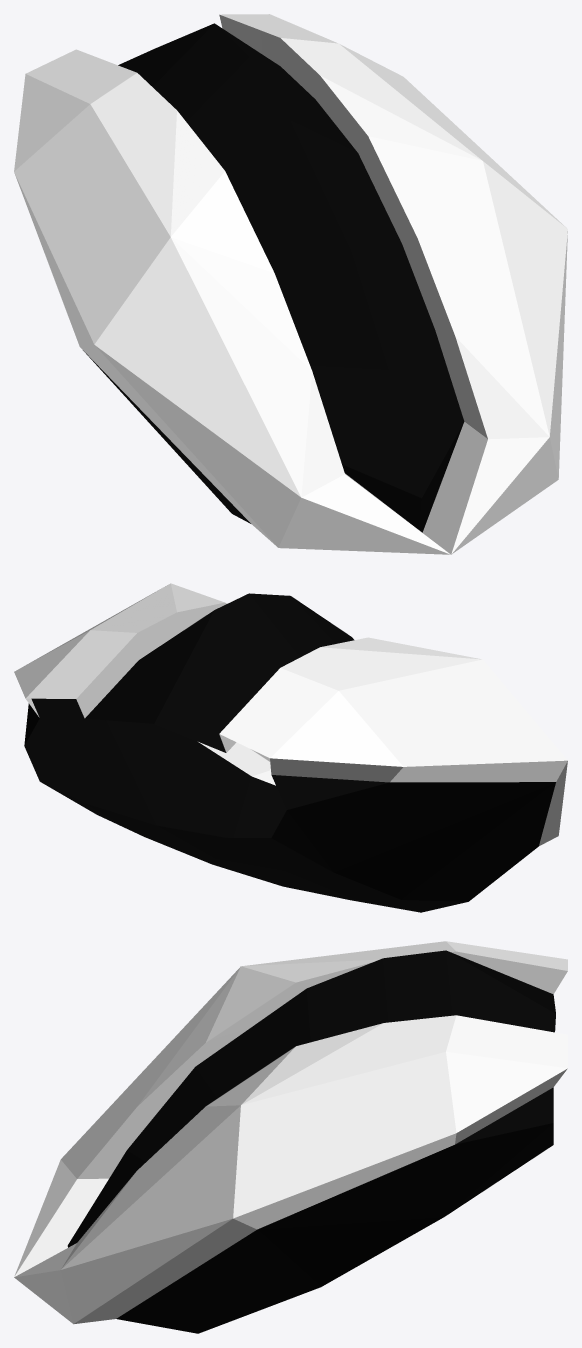
File: moufsakaTail.obj
3 renders of one model, top to bottom at view 1: azimuth 30°, elevation 25°; view 2: azimuth 150°, elevation 25°; view 3: azimuth 270°, elevation 25°, orthographic. The views are drawn at different scales.
Visible parts, largest first — view 1: Muffa_Cube.002_Muffa_Cube.003_white-fur, Muffa_Cube.002_Muffa_Cube.003_black-fur; view 2: Muffa_Cube.002_Muffa_Cube.003_black-fur, Muffa_Cube.002_Muffa_Cube.003_white-fur; view 3: Muffa_Cube.002_Muffa_Cube.003_white-fur, Muffa_Cube.002_Muffa_Cube.003_black-fur.
Part boxes in pixels (x1,y1,x2,y2): Muffa_Cube.002_Muffa_Cube.003_white-fur: [14, 14, 567, 554]; Muffa_Cube.002_Muffa_Cube.003_black-fur: [83, 23, 464, 532]; Muffa_Cube.002_Muffa_Cube.003_black-fur: [24, 593, 555, 912]; Muffa_Cube.002_Muffa_Cube.003_white-fur: [14, 583, 567, 845]; Muffa_Cube.002_Muffa_Cube.003_white-fur: [14, 941, 567, 1324]; Muffa_Cube.002_Muffa_Cube.003_black-fur: [67, 950, 555, 1333].
Bounding box in the file's own units: 1.83 × 1.43 × 2.02.
Materials: 2 (2 with a texture image).
